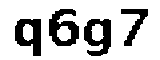6: (47, 6, 81, 53)
7: (116, 2, 152, 54)
g: (82, 17, 114, 60)
q: (13, 16, 43, 60)
